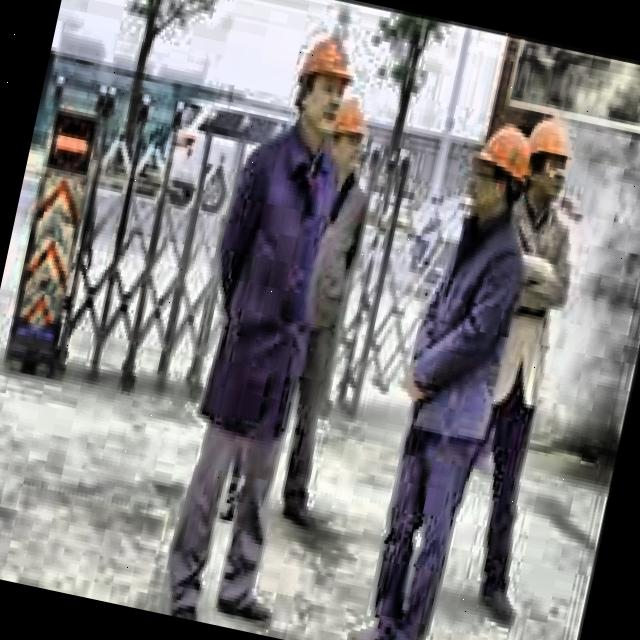helmet: (278, 20, 362, 149), (456, 114, 540, 235), (516, 104, 583, 210), (318, 80, 378, 184)
